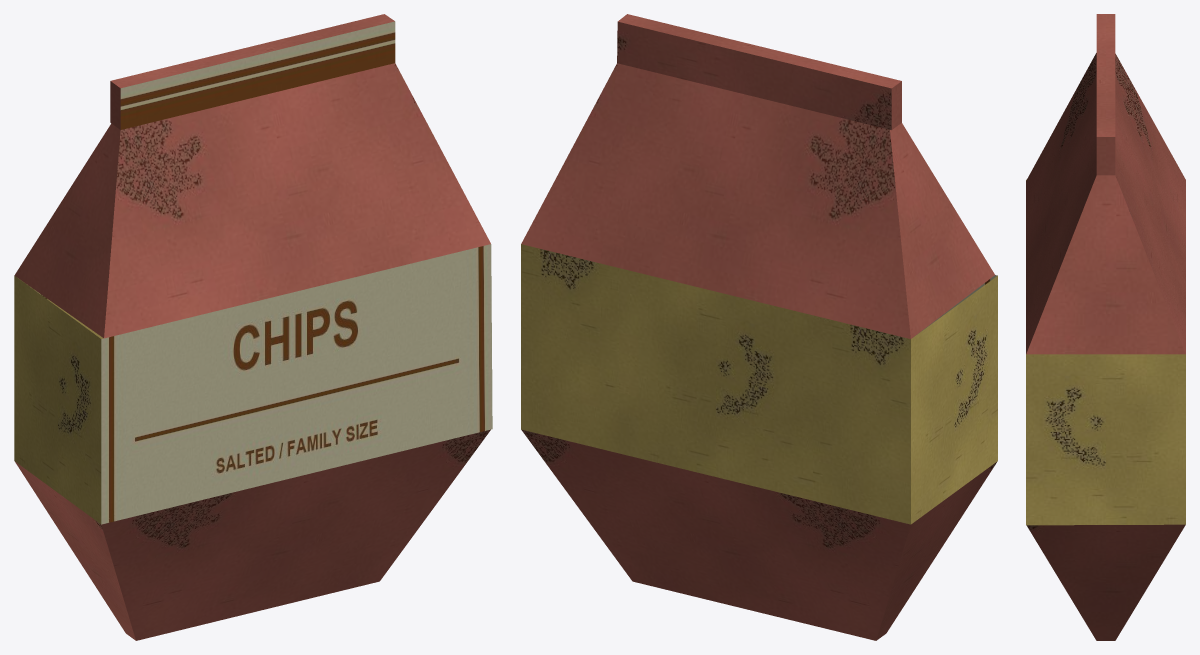
File: chips_v3.glb
The picture shows the model from 3 angles, left to right: view 1: azimuth 30°, elevation 25°; view 2: azimuth 150°, elevation 25°; view 3: azimuth 270°, elevation 25°; orthographic projection. The views are drawn at different scales.
Visible parts, largest first — view 1: Variant_chips_3; view 2: Variant_chips_3; view 3: Variant_chips_3.
Boxes of the visible parts, left/top/right/bottom form: Variant_chips_3: left=14, top=14, right=492, bottom=640; Variant_chips_3: left=521, top=14, right=997, bottom=640; Variant_chips_3: left=1026, top=14, right=1185, bottom=640.
Bounding box in the file's own units: 0.1766 × 0.24 × 0.068.
3 materials, 3 textured.
